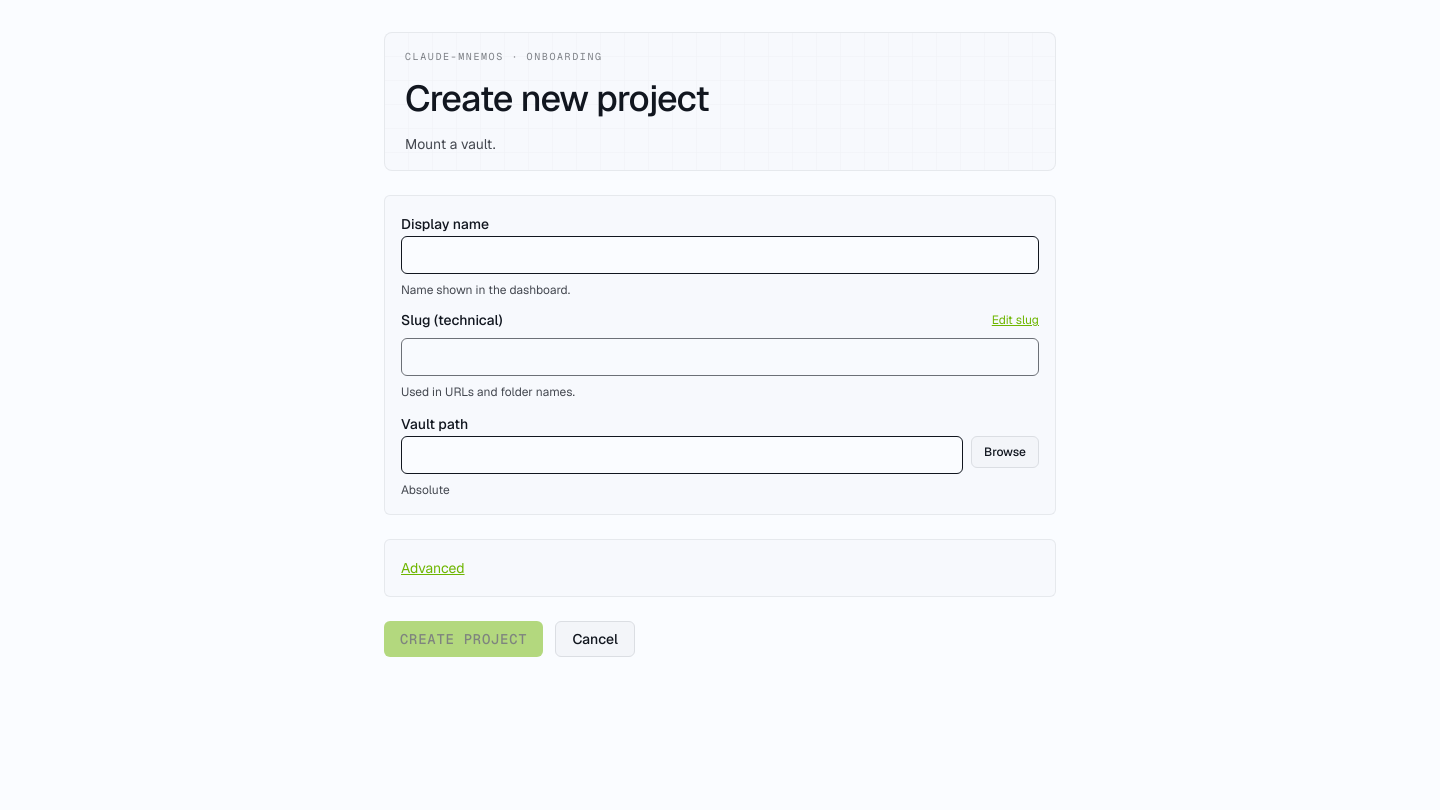
it: OnboardingAdvanced › opens DirectoryPicker on Browse button click
The image size is (1440, 810).
Click the button "Browse".
click(1005, 452)  # box [971,436,1039,468]
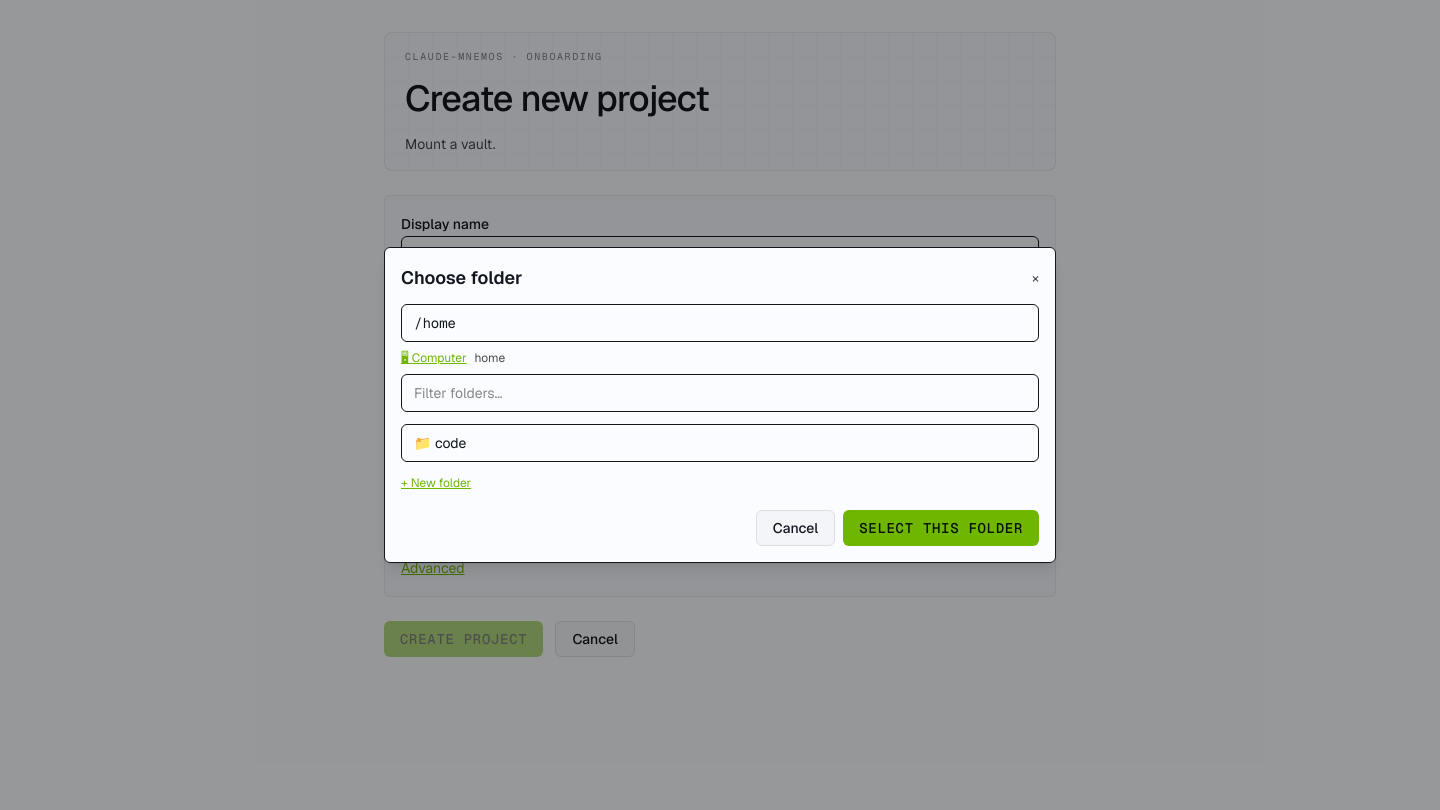
Now the button "📁 code" is shown, box [402,425,1038,461]
